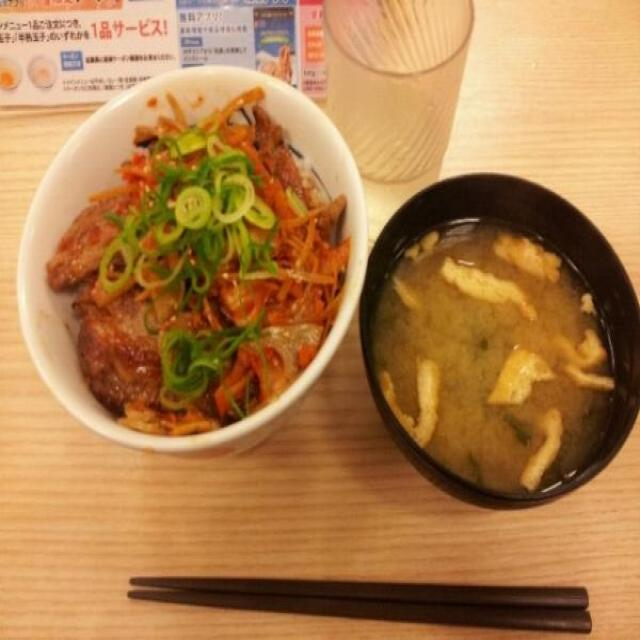汤锅炖物: (358, 171, 640, 514)
